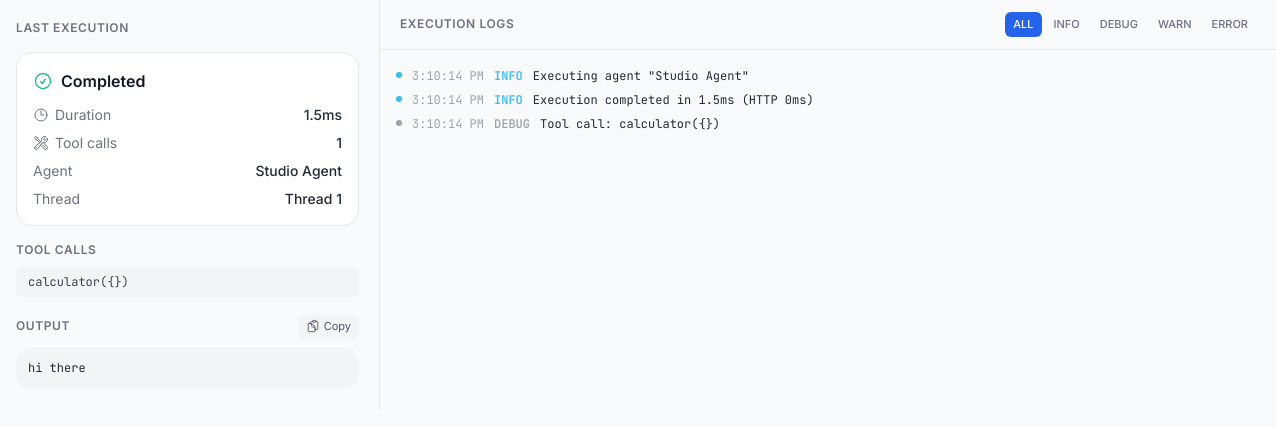
it: filters the log by level
Check: the text "Executing agent \"Studio Agent\"" is shown, box [533, 68, 749, 84]
What coordinates should you click on to do the following:
click the button "debug"
I would click on:
 (1119, 24)
Its box is [1092, 12, 1146, 36].
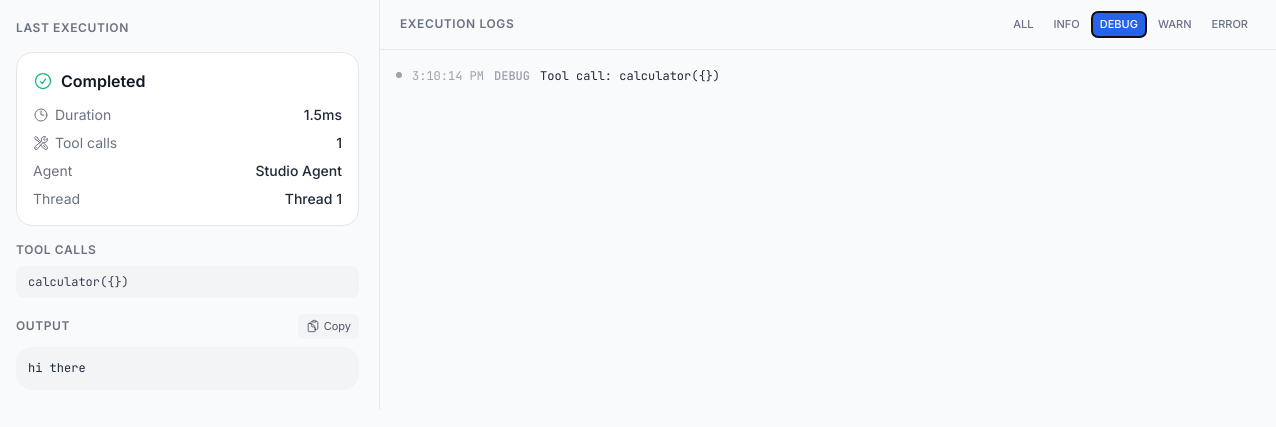
Check: the text "Tool call: calculator({})" is shown, box [540, 68, 720, 84]
Check: the text "Executing agent \"Studio Agent\"" is gone
What coordinates should you click on to do the following:
click the button "warn"
I would click on:
 (1175, 24)
Its box is [1150, 12, 1200, 36].
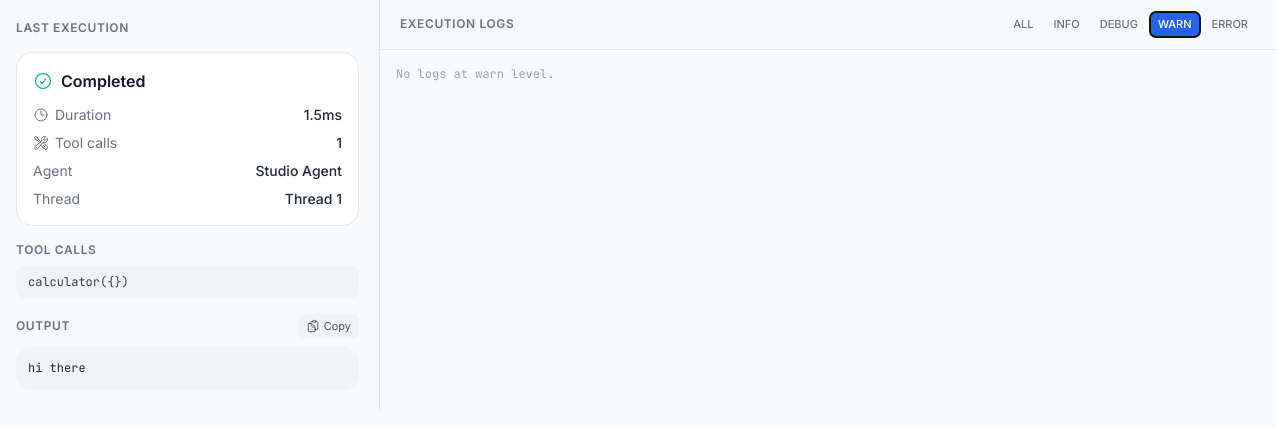
Check: the text "No logs at warn level." is shown, box [396, 66, 554, 82]
